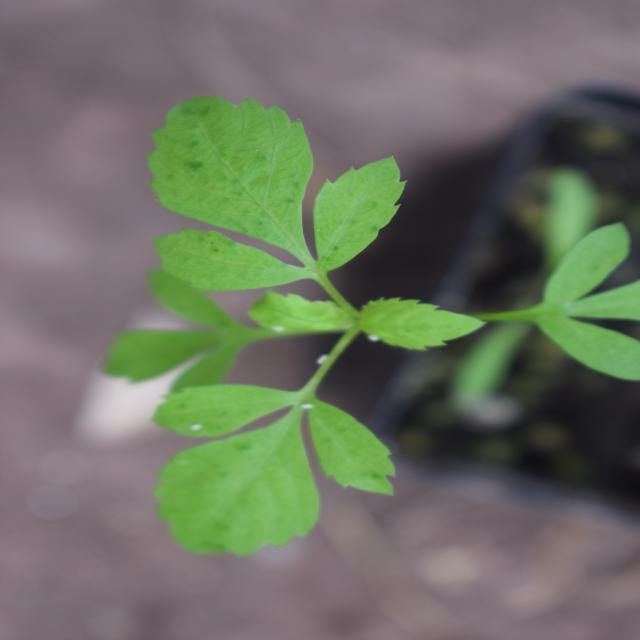Bidens pilosa: (103, 0, 530, 534)
